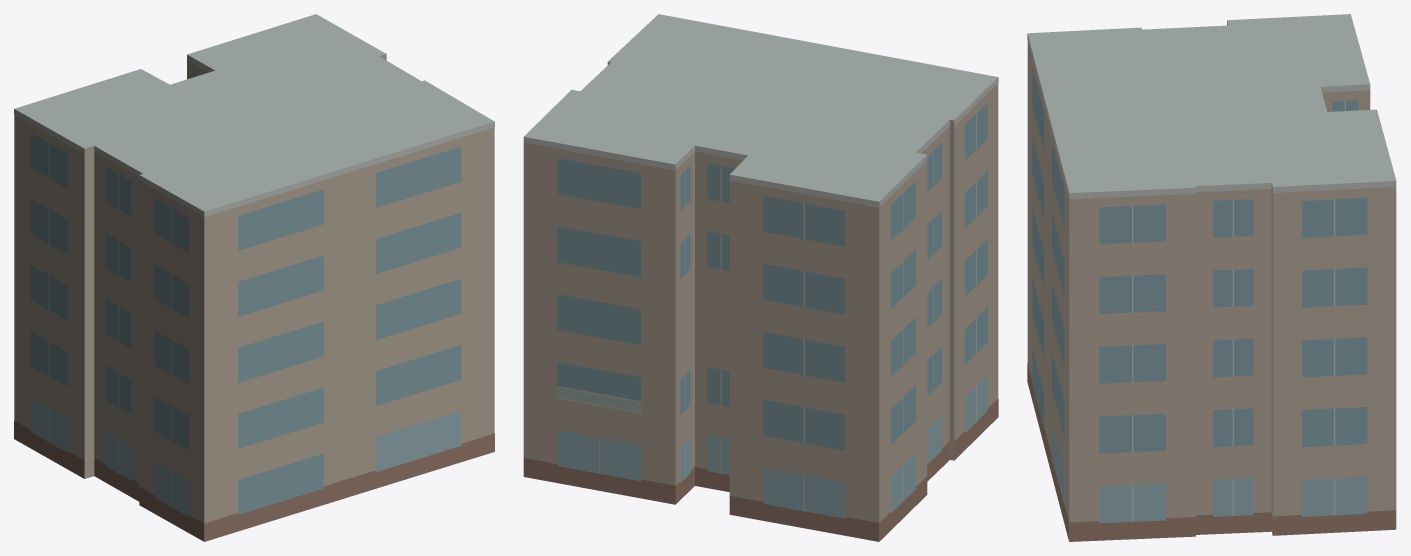
Rendered from survey-upis-32615678.glb.
The picture shows the model from 3 angles, left to right: view 1: azimuth 30°, elevation 25°; view 2: azimuth 150°, elevation 25°; view 3: azimuth 270°, elevation 25°; orthographic projection. The views are drawn at different scales.
Parts seen in each view (by area): view 1: survey-upis-32615678.tmp; view 2: survey-upis-32615678.tmp; view 3: survey-upis-32615678.tmp.
Boxes of the visible parts, bbox=[...] form: survey-upis-32615678.tmp: bbox=[14, 14, 494, 541]; survey-upis-32615678.tmp: bbox=[523, 14, 998, 541]; survey-upis-32615678.tmp: bbox=[1027, 14, 1396, 541].
Bounding box in the file's own units: 15.54 × 14.1 × 13.53.
